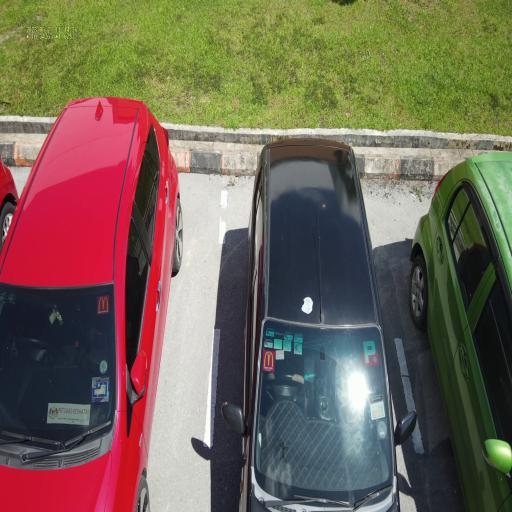Occupied: (191, 142, 441, 512)
